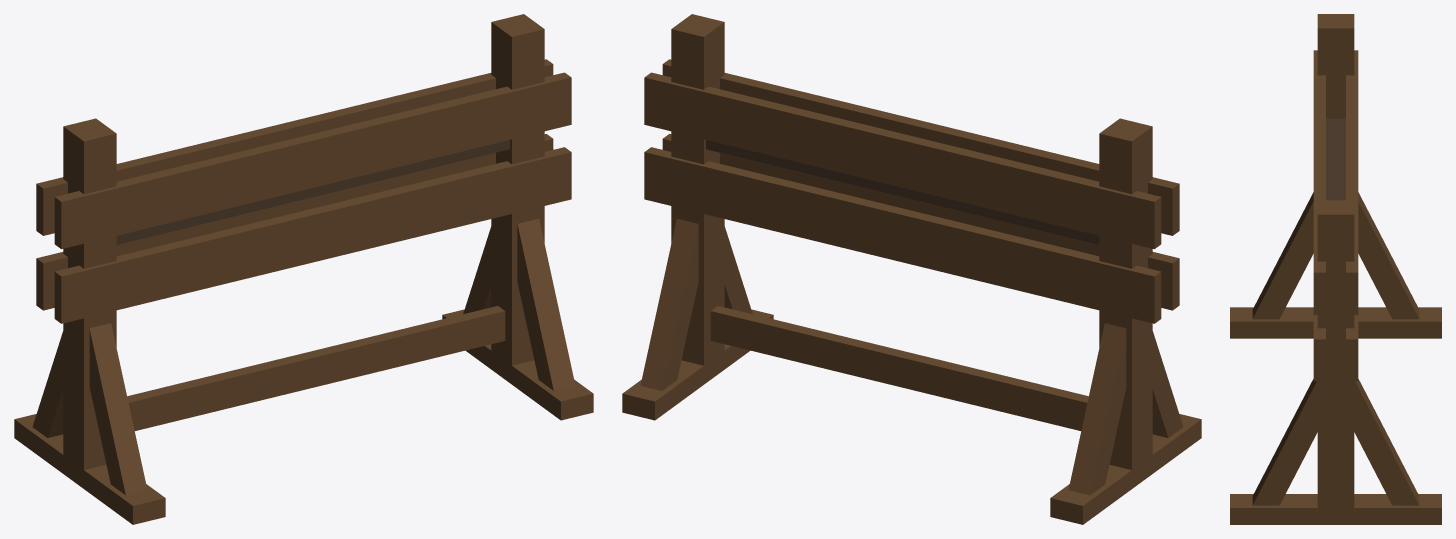
Rendered from SM_Weapon_Stand_Sword_Empty_Empire.fbx.
3 views of the same model, side by side, from view 1: azimuth 30°, elevation 25°; view 2: azimuth 150°, elevation 25°; view 3: azimuth 270°, elevation 25° (orthographic). The views are drawn at different scales.
Visible parts, largest first — view 1: SM_Weapon_Stand_Sword_Empty_Empire; view 2: SM_Weapon_Stand_Sword_Empty_Empire; view 3: SM_Weapon_Stand_Sword_Empty_Empire.
Part boxes in pixels (left/top/right/bottom): SM_Weapon_Stand_Sword_Empty_Empire: left=14, top=14, right=593, bottom=524; SM_Weapon_Stand_Sword_Empty_Empire: left=622, top=14, right=1201, bottom=524; SM_Weapon_Stand_Sword_Empty_Empire: left=1230, top=14, right=1441, bottom=524.
Size of the model in its own units: 2.19 by 1.42 by 0.88.
